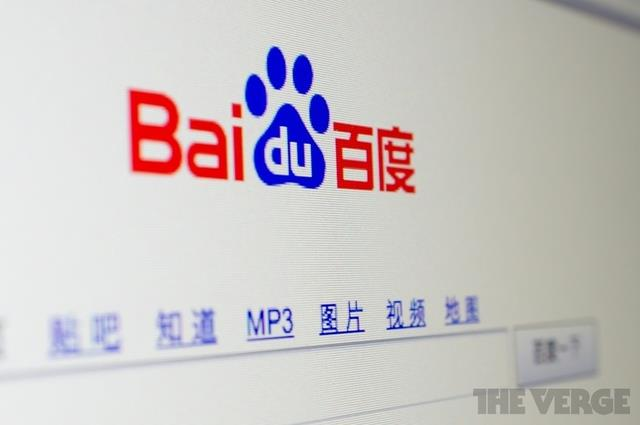baidu: (127, 38, 420, 199)
